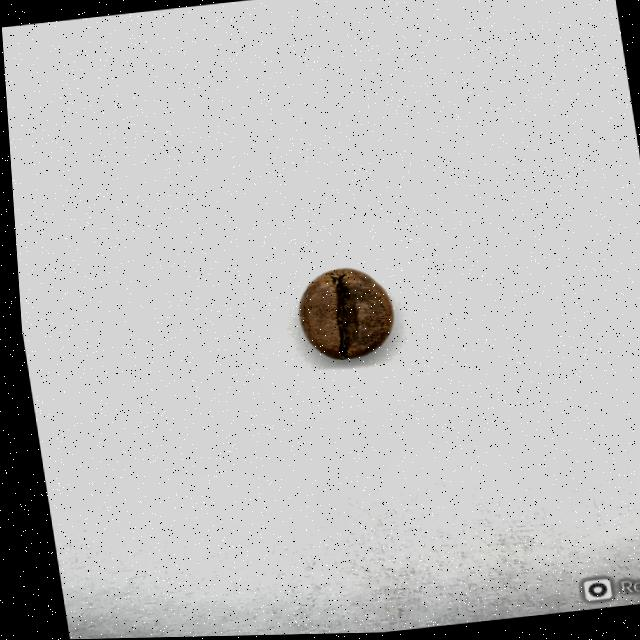Good bean: (287, 264, 395, 365)
